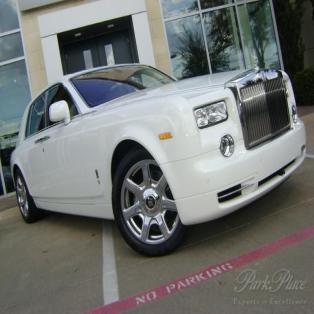Auto: (8, 56, 309, 262)
